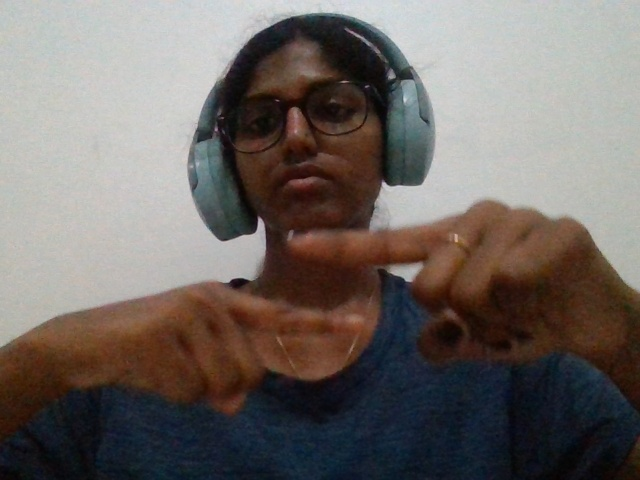Sign: (3, 193, 640, 441)
